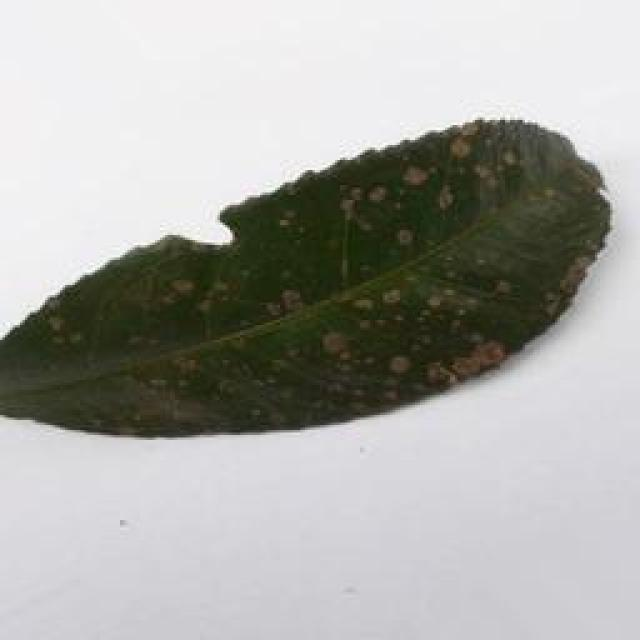Algal Leaf Spot: (9, 105, 616, 451)
